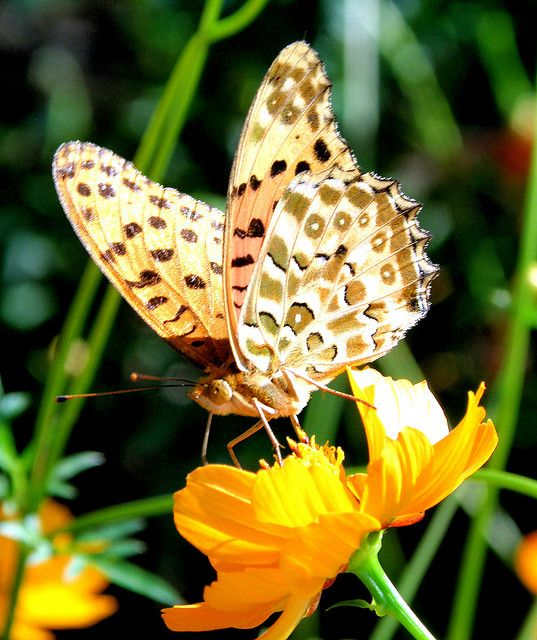Argyreus hyperbius: (45, 30, 446, 469)
butterfly: (47, 32, 448, 471)
